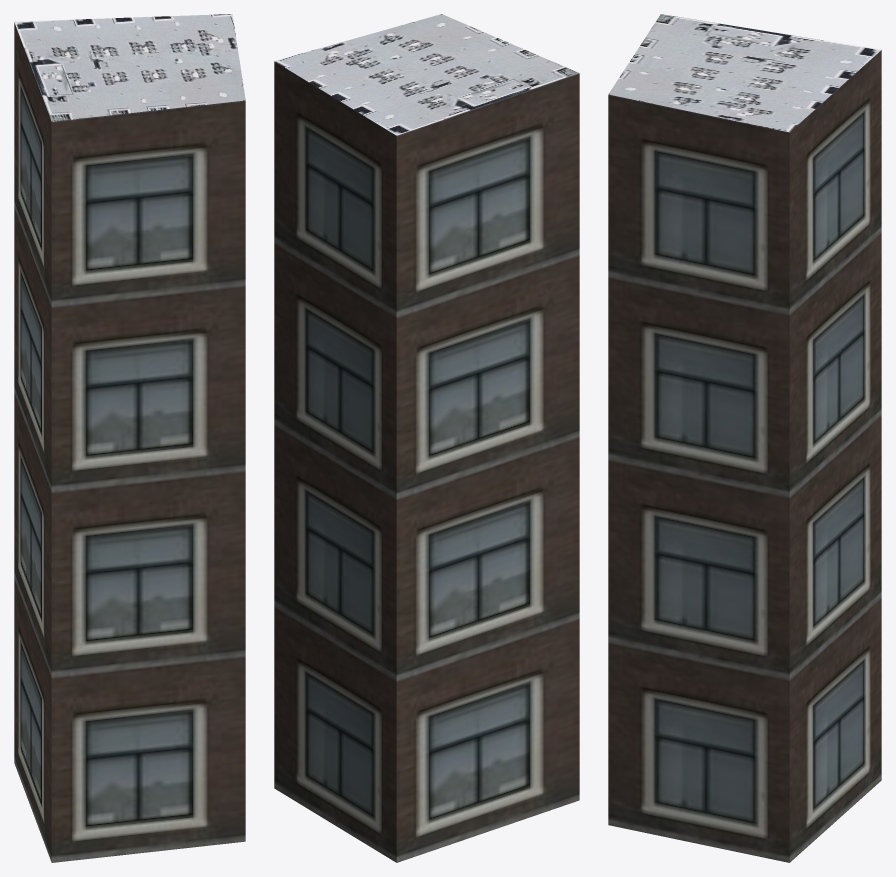
The model's file is ResTex__4052.fbx.
3 renders of one model, left to right at view 1: azimuth 30°, elevation 25°; view 2: azimuth 150°, elevation 25°; view 3: azimuth 270°, elevation 25°, orthographic.
Parts seen in each view (by area): view 1: CityEngineMaterial_16_m, CityEngineMaterial_15_m; view 2: CityEngineMaterial_16_m, CityEngineMaterial_15_m; view 3: CityEngineMaterial_16_m, CityEngineMaterial_15_m.
Boxes of the visible parts, box(x1,y1,x2,y2) form: CityEngineMaterial_16_m: box(14, 22, 245, 862); CityEngineMaterial_15_m: box(14, 14, 245, 121); CityEngineMaterial_16_m: box(274, 61, 579, 862); CityEngineMaterial_15_m: box(274, 14, 579, 135); CityEngineMaterial_16_m: box(608, 50, 881, 862); CityEngineMaterial_15_m: box(608, 14, 881, 132).
Bounding box in the file's own units: 4.17 × 12 × 4.07.
Materials: 2 (2 with a texture image).
